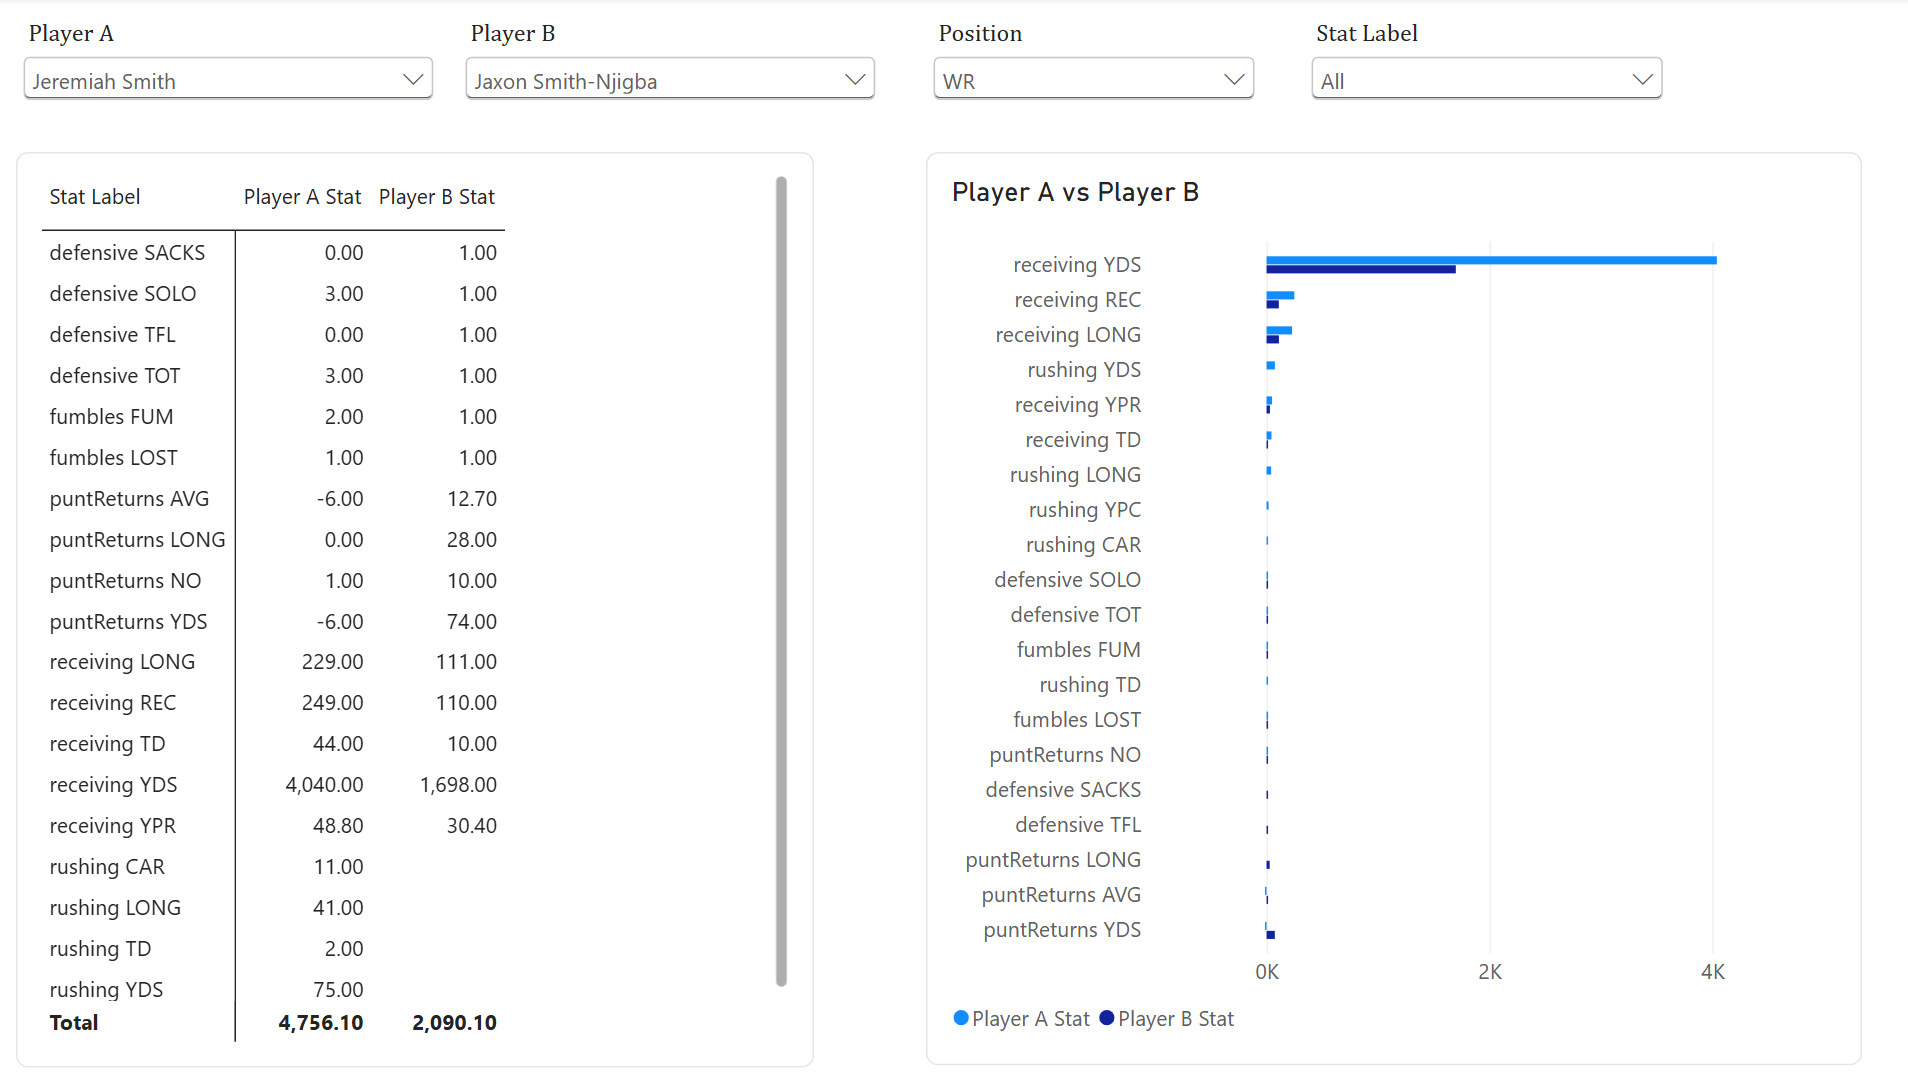

The page's visual inventory and layout, read from the dashboard file:
{"tool":"powerbi","page":{"name":"Players Stats","canvas":[1280,720],"ordinal":4},"visuals":[{"type":"slicer","fields":{"Values":["Player A.player"]},"box":[17.4,14.9,279.9,88.3],"z":0},{"type":"slicer","fields":{"Values":["Player B.player"]},"box":[308.5,14.9,279.9,88.3],"z":1000},{"type":"pivotTable","fields":{"Rows":["Season Stats.Stat Label"],"Values":["Measure.Player A Stat","Measure.Player B Stat"]},"box":[17.4,103.2,526.2,603.3],"z":2000},{"type":"slicer","fields":{"Values":["Positions.position"]},"box":[617,14.9,221.4,88.3],"z":3000},{"type":"clusteredBarChart","title":"Player A vs Player B","fields":{"Category":["Season Stats.Stat Label"],"Y":["Measure.Player A Stat","Measure.Player B Stat"]},"box":[616.8,103.5,616.8,602.2],"z":4000},{"type":"slicer","fields":{"Values":["Season Stats.Stat Label"]},"box":[866.2,14.6,241.4,75.6],"z":5000}]}

Visuals, with their boxes in screenshot pixels (x1, y1, x2, y2), scaled from the page's 1280x720 canvas onto the 1908x1076 screenshot:
slicer - Player A.player: crop(26, 22, 443, 154)
slicer - Player B.player: crop(460, 22, 877, 154)
pivotTable - Season Stats.Stat Label x Measure.Player A Stat: crop(26, 154, 810, 1056)
slicer - Positions.position: crop(920, 22, 1250, 154)
"Player A vs Player B" clusteredBarChart: crop(919, 155, 1839, 1055)
slicer - Season Stats.Stat Label: crop(1291, 22, 1651, 135)
